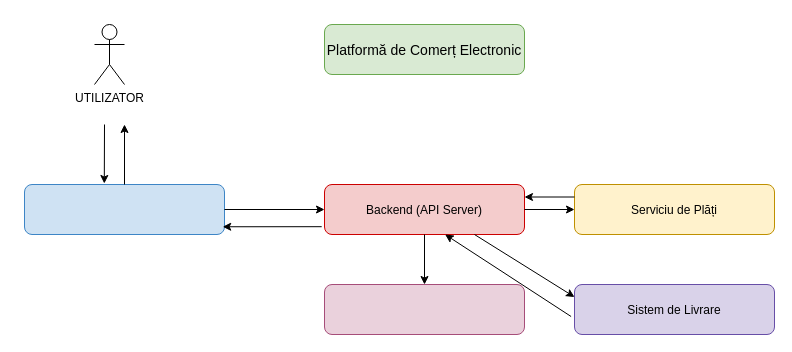
Image size: 792x352. Some labels were removed from this diagram. The centre of each missing label's shape, as x and y in pixels:
"Baza de Date" goes at point 424,309.
"Frontend (Interfața Web)" goes at point 124,209.
